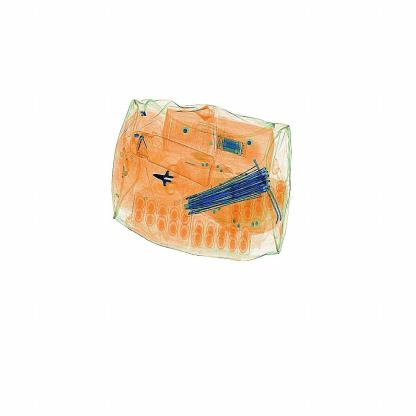gun: (146, 160, 188, 200)
